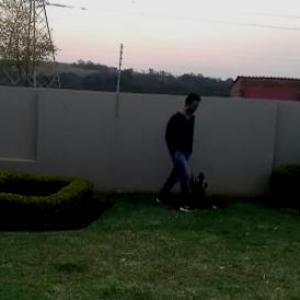follow: (161, 94, 195, 206)
